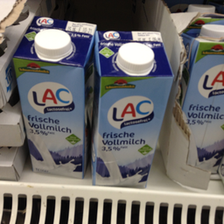milk: (13, 14, 96, 184), (90, 30, 173, 181), (183, 22, 224, 181)
